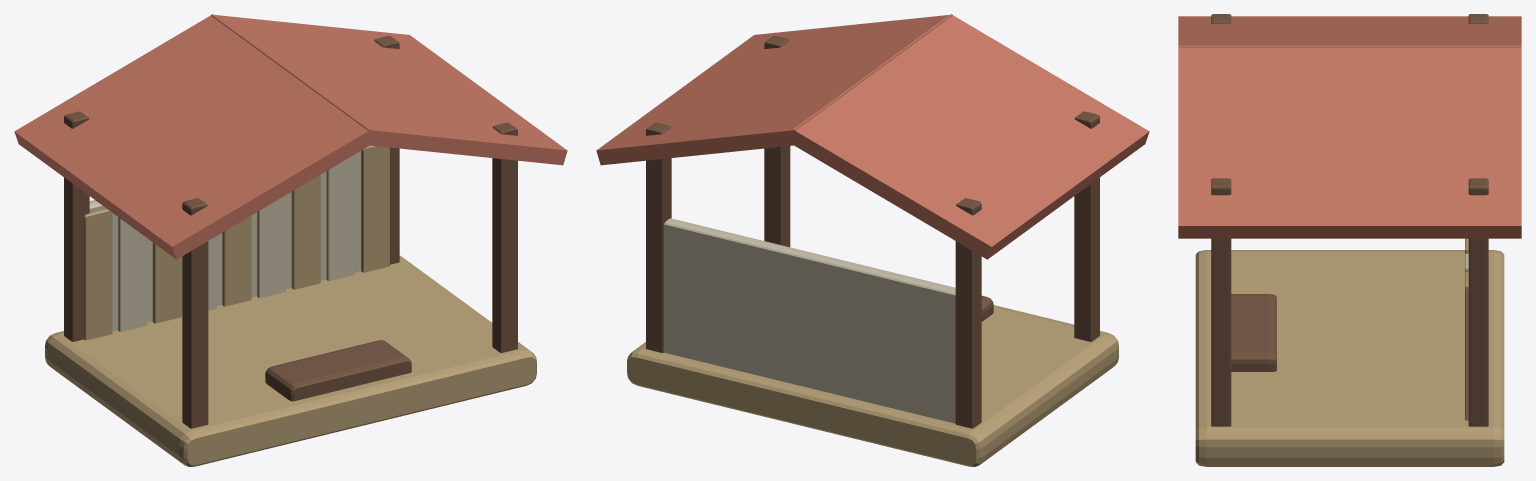
File: farm-shelter-lod1.glb
3 renders of one model, left to right at view 1: azimuth 30°, elevation 25°; view 2: azimuth 150°, elevation 25°; view 3: azimuth 270°, elevation 25°, orthographic. The views are drawn at different scales.
Visible parts, largest first — view 1: shell; view 2: shell; view 3: shell.
Part boxes in pixels (<box>): shell: <box>14,14,567,466</box>; shell: <box>596,14,1149,466</box>; shell: <box>1178,14,1521,466</box>.
Bounding box in the file's own units: 3.7 × 2.72 × 2.56.
